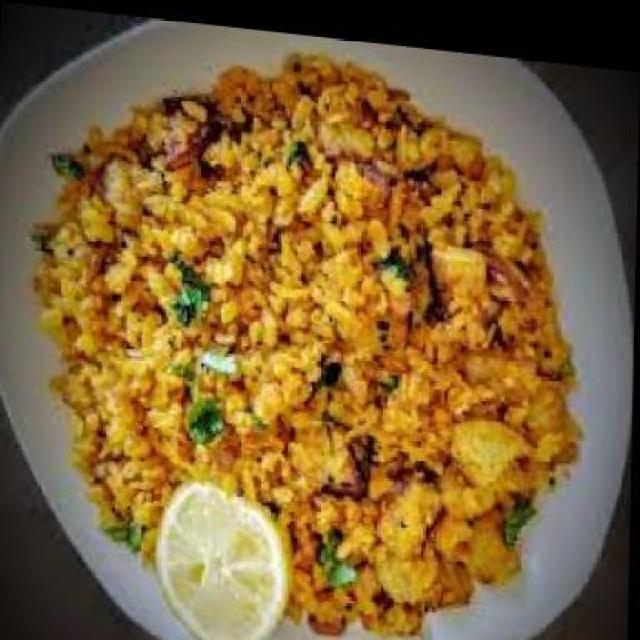poha: (18, 20, 590, 640)
